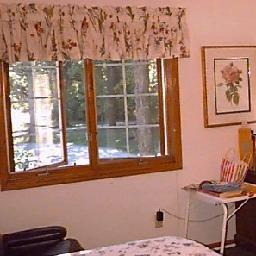Ventana: (0, 31, 175, 164)
